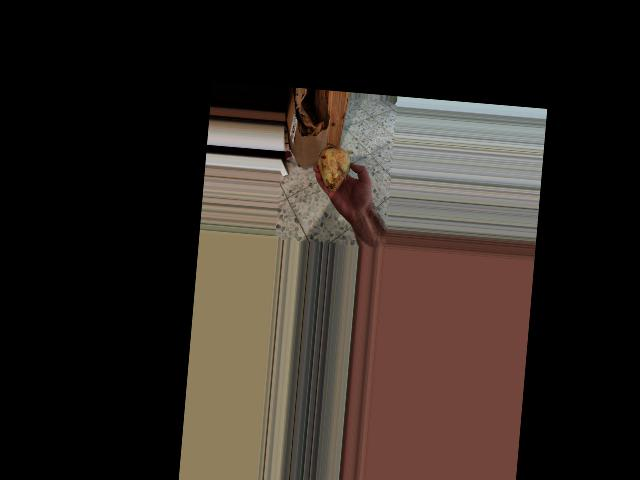onion: (315, 141, 352, 194)
